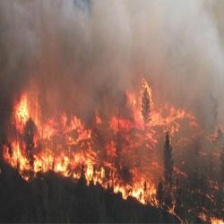fire: (9, 97, 186, 211)
smoke: (10, 1, 224, 84)
